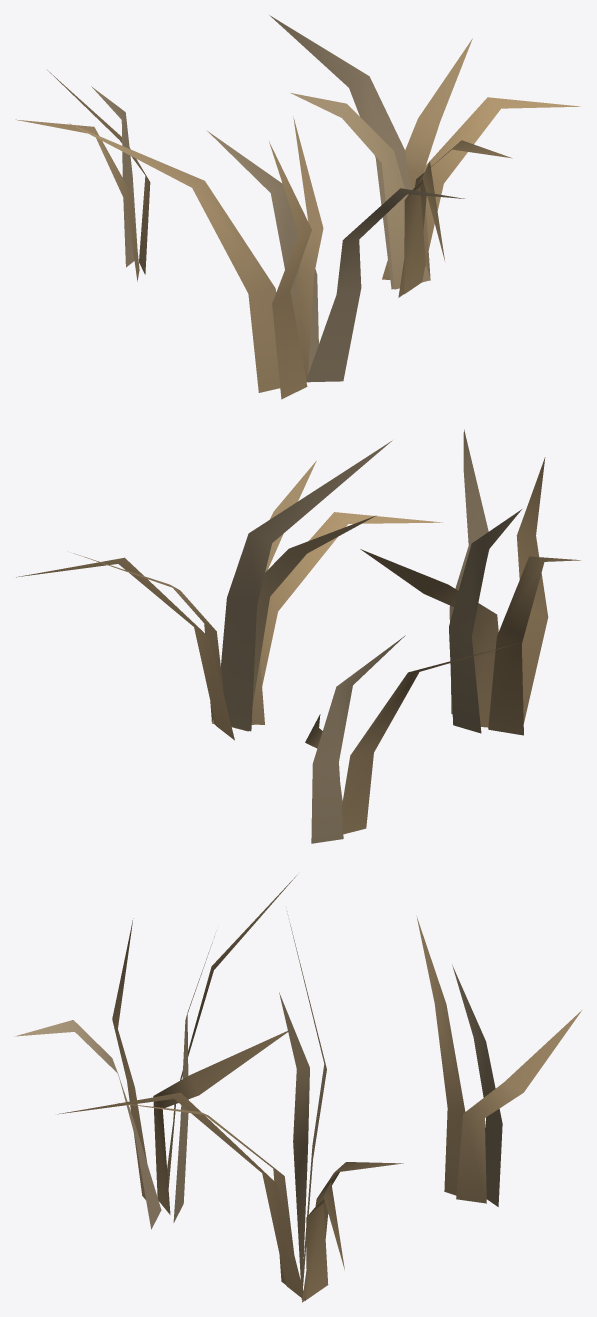
The model's file is Grass_e_TwoS_05.fbx.
3 views of the same model, one above another, from view 1: azimuth 30°, elevation 25°; view 2: azimuth 150°, elevation 25°; view 3: azimuth 270°, elevation 25° (orthographic).
Parts seen in each view (by area): view 1: Grass_e_TwoS_05; view 2: Grass_e_TwoS_05; view 3: Grass_e_TwoS_05.
Boxes of the visible parts, bbox=[...] form: Grass_e_TwoS_05: bbox=[15, 15, 580, 399]; Grass_e_TwoS_05: bbox=[16, 429, 580, 843]; Grass_e_TwoS_05: bbox=[14, 875, 581, 1302].
Bounding box in the file's own units: 107 × 61.06 × 97.01.
